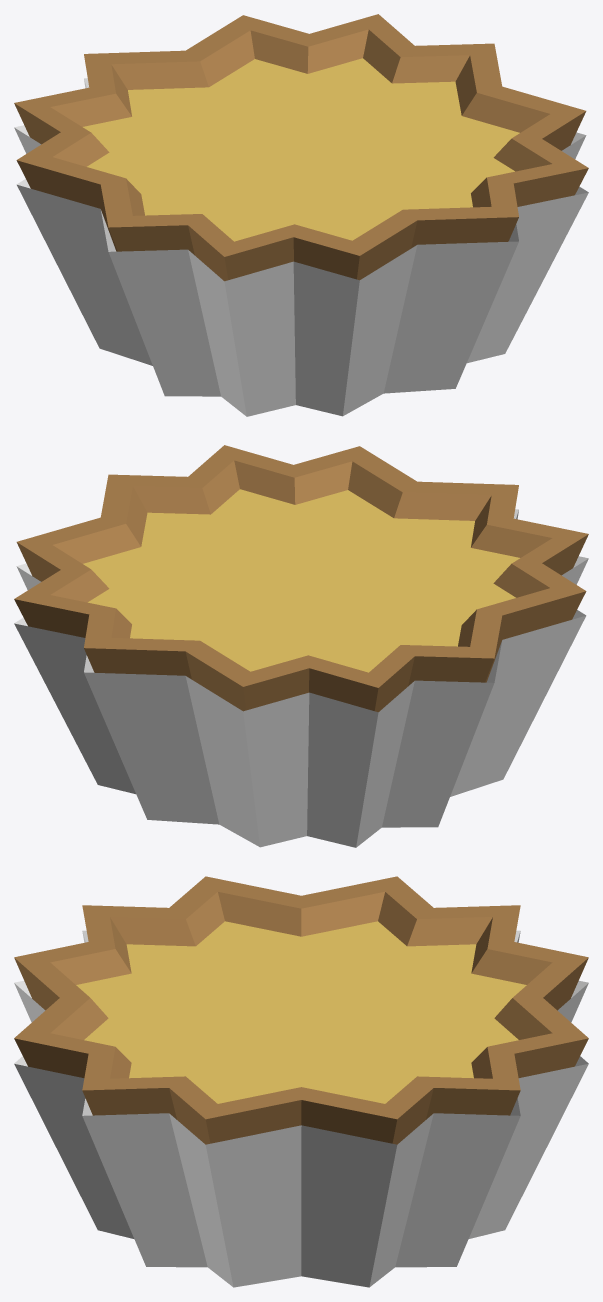
The model's file is egg_tart.fbx.
3 renders of one model, top to bottom at view 1: azimuth 30°, elevation 25°; view 2: azimuth 150°, elevation 25°; view 3: azimuth 270°, elevation 25°, orthographic. The views are drawn at different scales.
Parts seen in each view (by area): view 1: egg_tart; view 2: egg_tart; view 3: egg_tart.
Boxes of the visible parts, x1=… form: egg_tart: x1=14, y1=14, x2=588, y2=416; egg_tart: x1=14, y1=445, x2=588, y2=847; egg_tart: x1=14, y1=876, x2=588, y2=1287.
Size of the model in its own units: 91.46 by 37.68 by 91.46.
